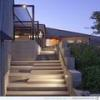stairs: (11, 58, 65, 100)
